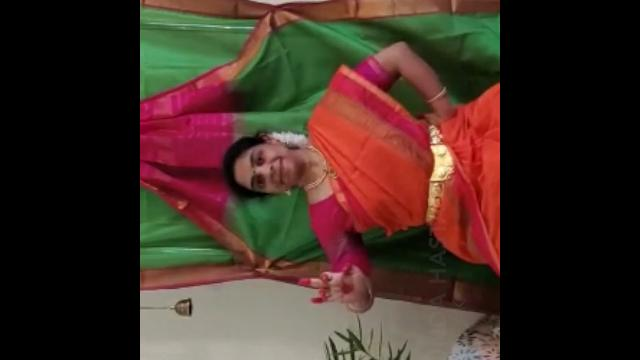shuktund: (282, 256, 388, 312)
